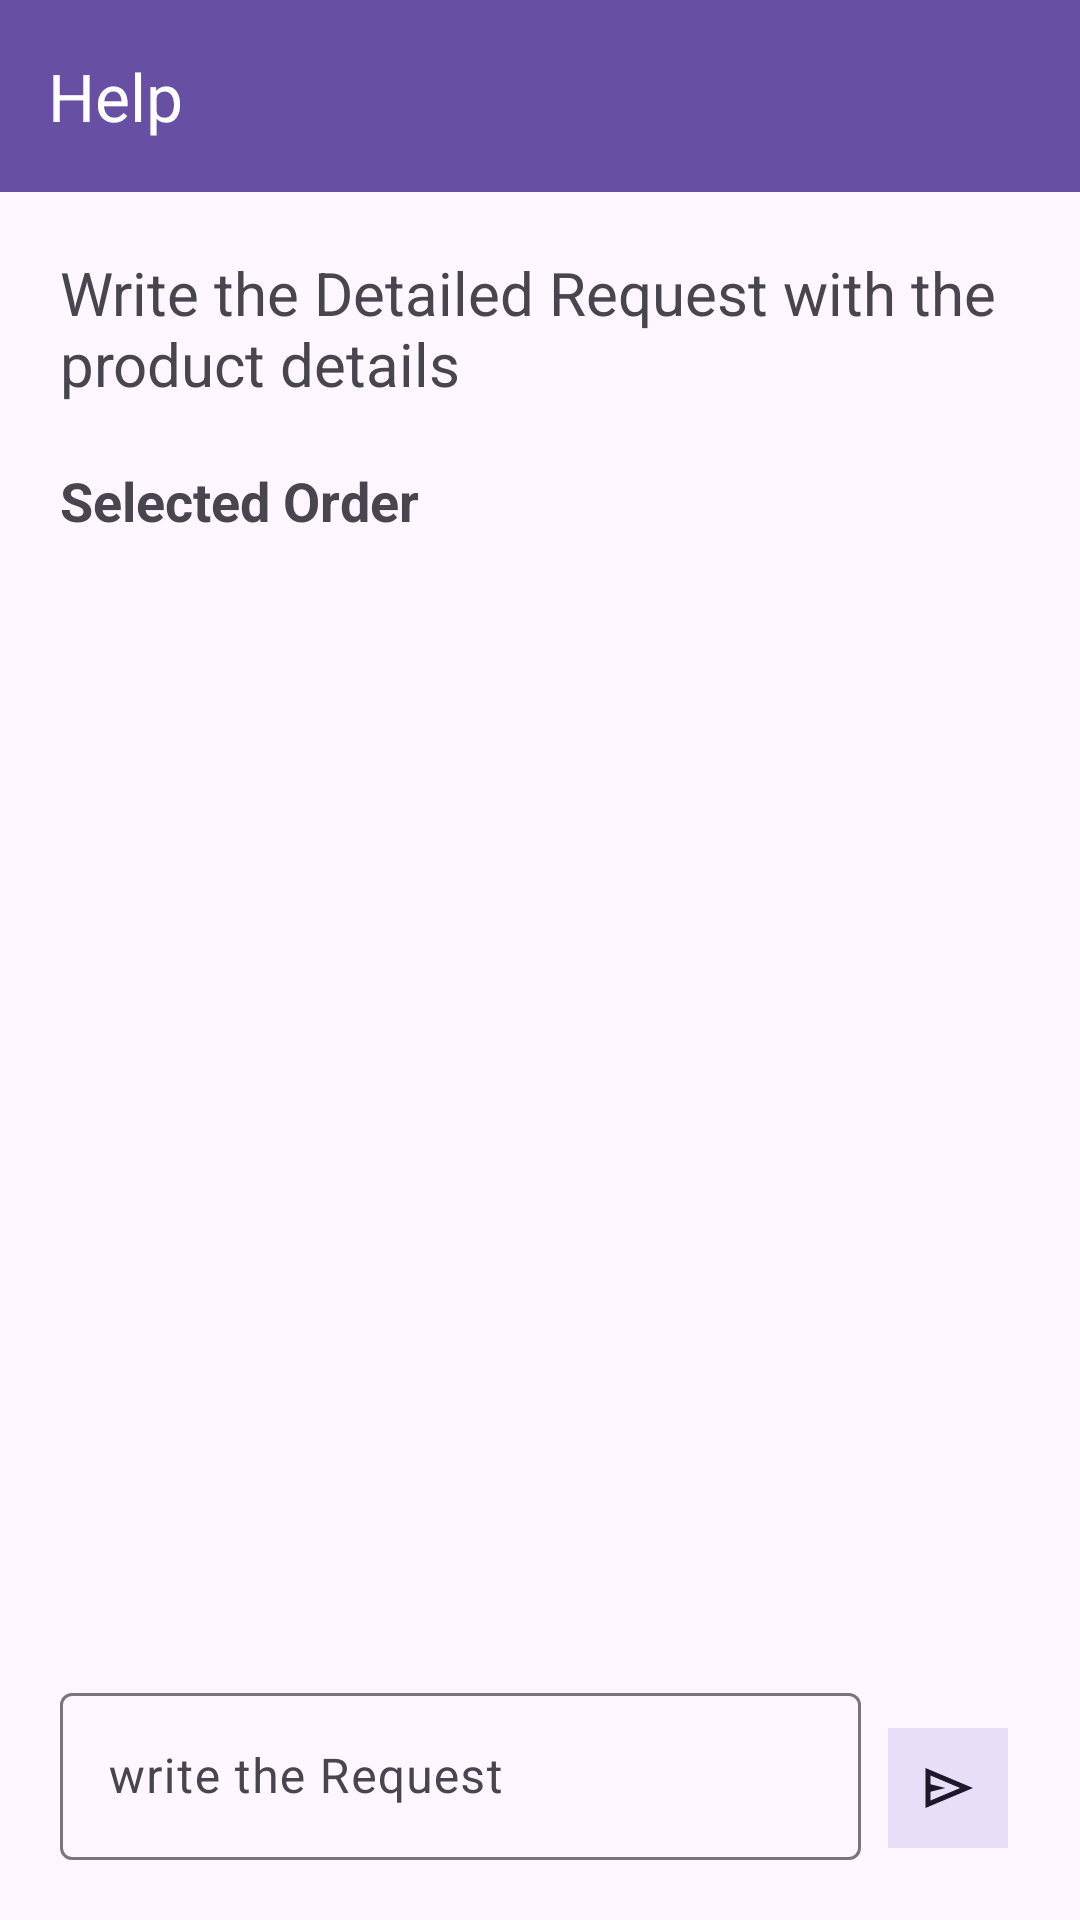

Icons on this 1080*1920 Android screen, each with the point to tap as point (x, y):
send: point (948, 1788)
